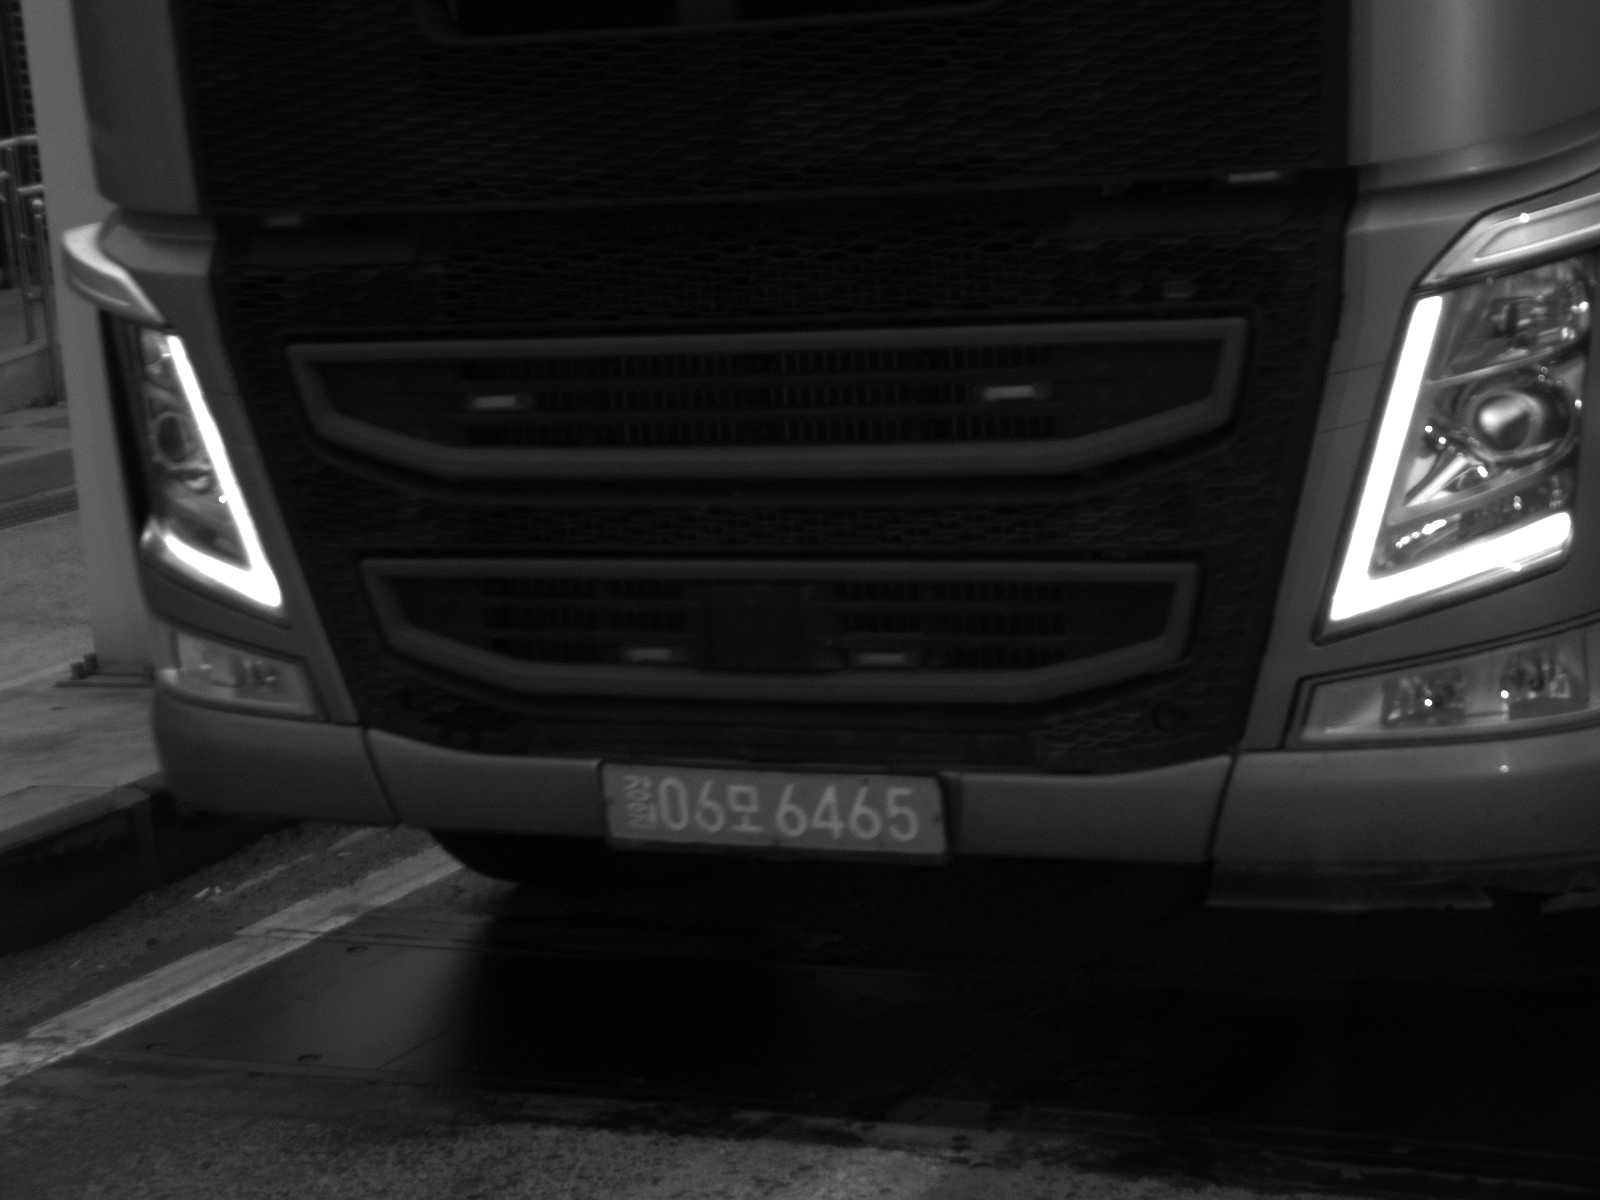car: (65, 1, 1600, 928)
plate: (594, 760, 947, 858)
